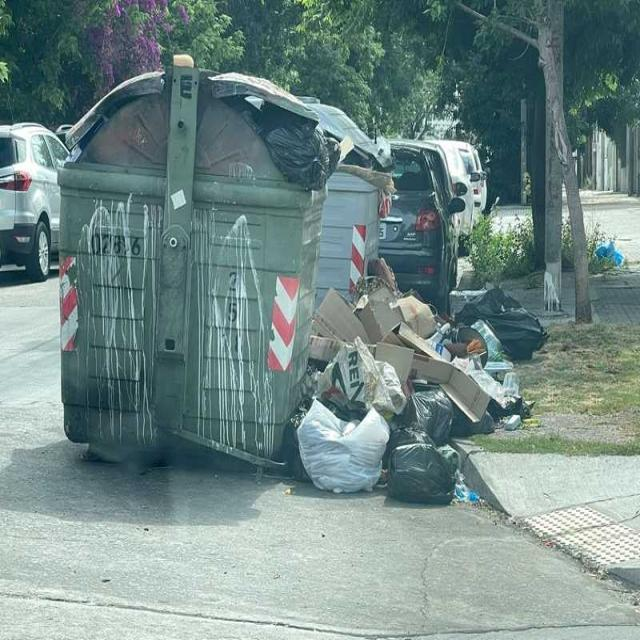garbage: (296, 258, 554, 532), (252, 92, 395, 221)
